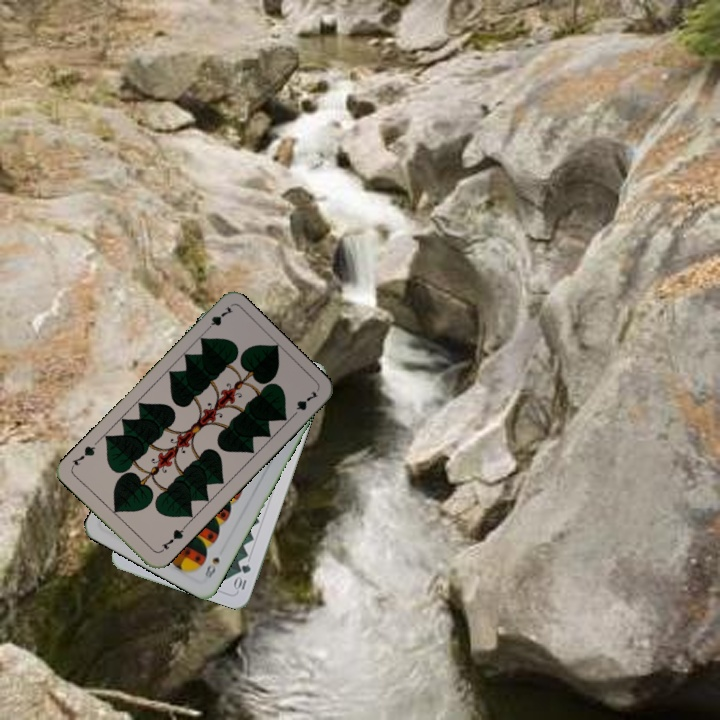G10: (231, 560, 253, 594)
G7: (200, 302, 236, 335), (155, 523, 187, 555)
S8: (201, 553, 222, 583)
